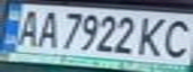2: (115, 12, 142, 56), (96, 11, 121, 54)
7: (57, 9, 84, 51)
9: (78, 10, 100, 52)
A: (12, 7, 45, 47), (33, 7, 63, 48)
C: (154, 16, 193, 61)
K: (133, 14, 172, 58)
